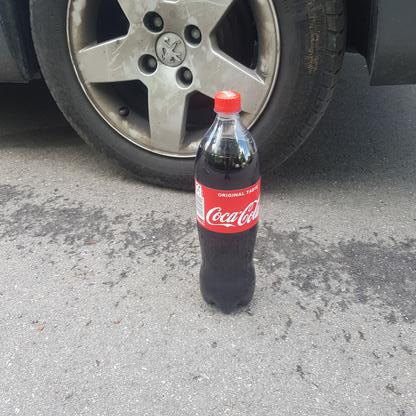coca-cola: (193, 88, 260, 316)
